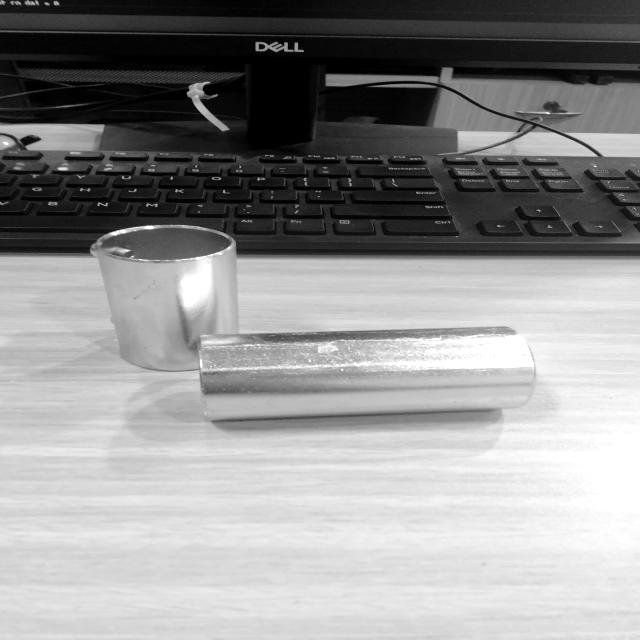Co_Lon: (198, 322, 537, 422)
Co_Nho: (90, 222, 240, 374)
